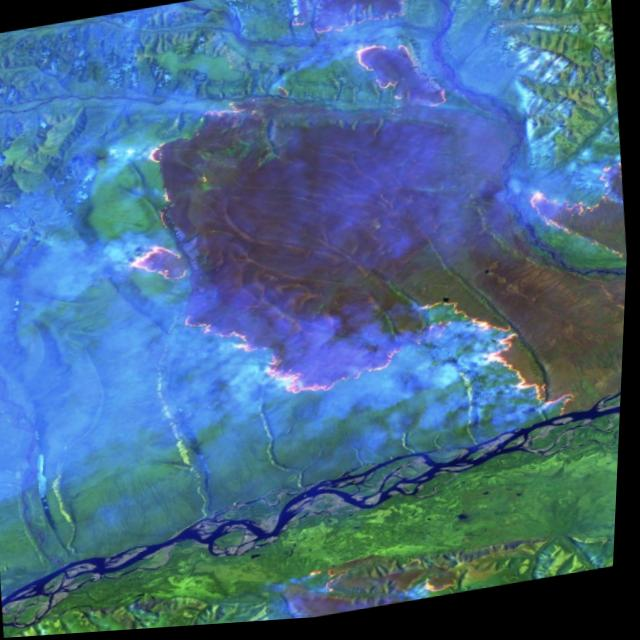fire: (84, 0, 640, 634)
